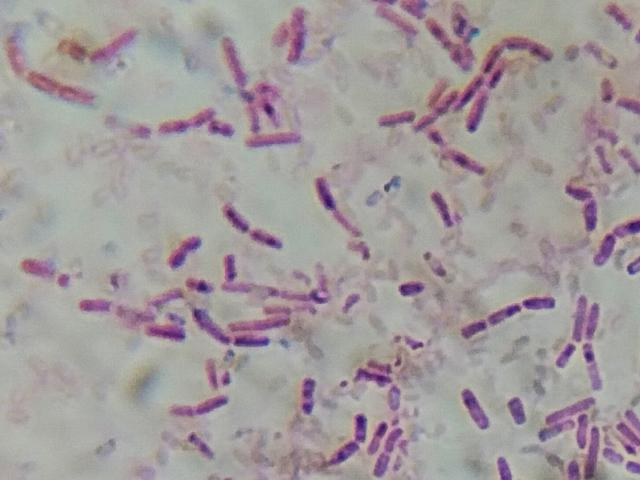E. coli: (123, 102, 235, 149), (228, 28, 262, 126), (58, 32, 149, 66), (26, 70, 98, 112), (313, 175, 355, 238), (220, 277, 320, 301), (225, 205, 278, 250), (158, 392, 232, 420), (568, 181, 607, 231), (430, 18, 470, 66), (83, 293, 146, 322), (415, 85, 457, 126), (280, 5, 311, 59), (503, 28, 551, 61), (160, 232, 205, 267), (377, 0, 416, 40), (22, 254, 70, 286), (6, 31, 36, 81), (231, 312, 291, 335), (580, 339, 607, 388), (463, 387, 491, 434), (224, 331, 277, 355), (179, 431, 216, 462), (195, 304, 224, 342), (447, 145, 486, 173), (249, 129, 303, 149), (522, 288, 560, 316), (606, 444, 640, 475), (148, 283, 180, 315), (141, 318, 181, 343), (299, 374, 321, 419), (421, 247, 449, 282), (355, 355, 390, 382), (532, 419, 573, 442), (375, 106, 419, 126), (544, 397, 598, 413), (430, 188, 452, 225), (587, 423, 601, 479), (492, 299, 520, 326), (616, 89, 640, 120), (569, 291, 586, 334), (612, 216, 640, 242), (199, 356, 221, 387), (620, 143, 640, 177), (491, 451, 514, 480), (351, 409, 369, 446), (397, 276, 424, 300), (509, 390, 527, 425), (618, 419, 640, 447), (609, 3, 631, 31), (383, 422, 403, 452), (461, 318, 485, 343), (459, 74, 479, 104), (332, 434, 353, 462), (557, 340, 580, 365), (220, 249, 239, 279), (492, 58, 511, 88), (598, 233, 615, 266), (470, 93, 486, 127), (483, 40, 499, 74), (386, 381, 402, 414), (576, 412, 592, 445), (188, 273, 214, 293), (587, 304, 602, 336), (598, 75, 615, 103), (594, 142, 610, 171), (369, 417, 381, 453), (627, 405, 640, 434), (375, 455, 388, 480), (630, 253, 640, 281), (568, 460, 578, 480)
